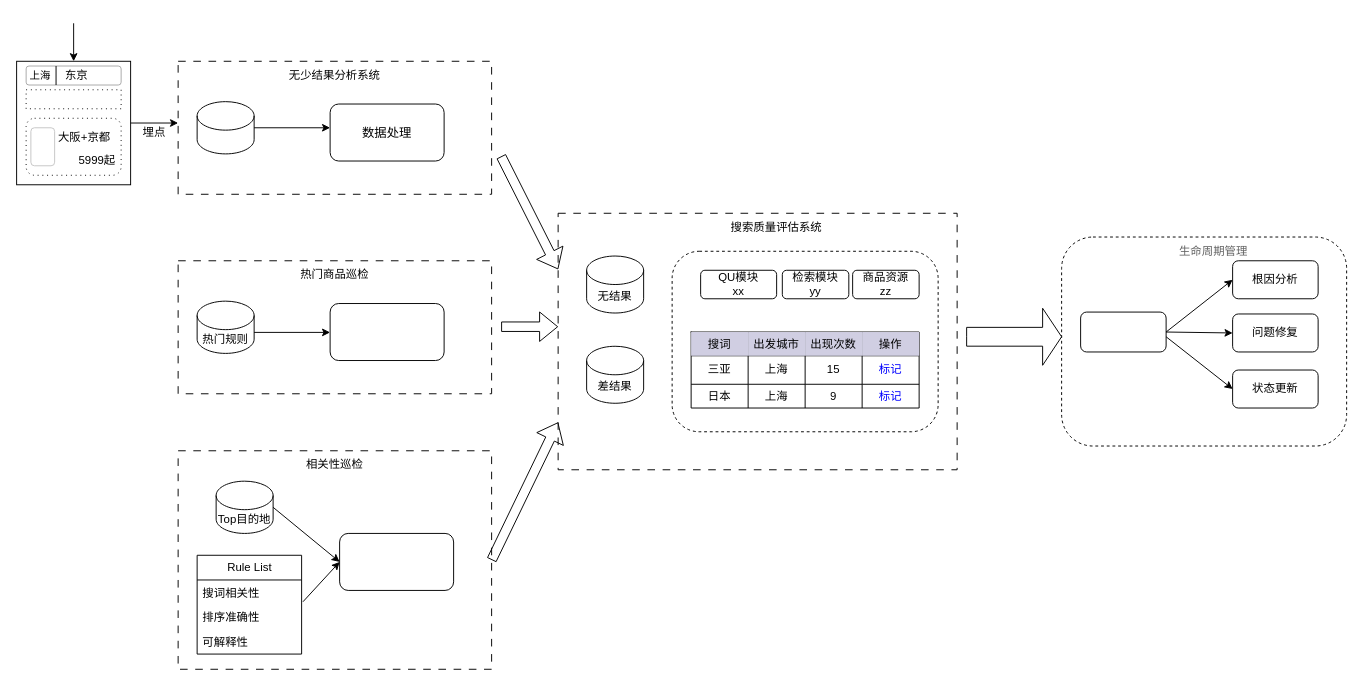
This 1363x686 diagram has some shape labels left out. Here are the shapes that lost their labels. From the top down, the centre of each, then its label:
At (x=73, y=99): "排序 天数 筛选".
At (x=225, y=127): "埋点数据".
At (x=386, y=332): "巡检识别".
At (x=1123, y=331): "生成IQ".
At (x=396, y=561): "相关性识别".
